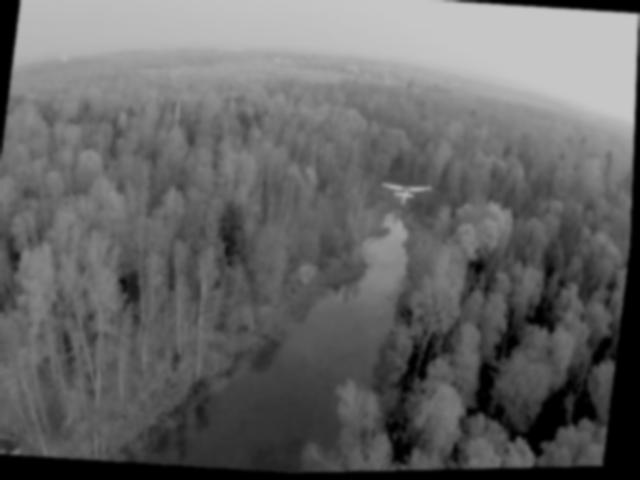hedef: (374, 173, 441, 215)
